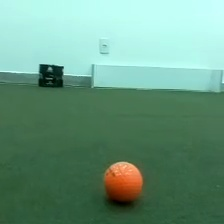ball: (101, 158, 145, 207)
goal: (88, 61, 224, 94)
robot: (36, 61, 65, 88)
